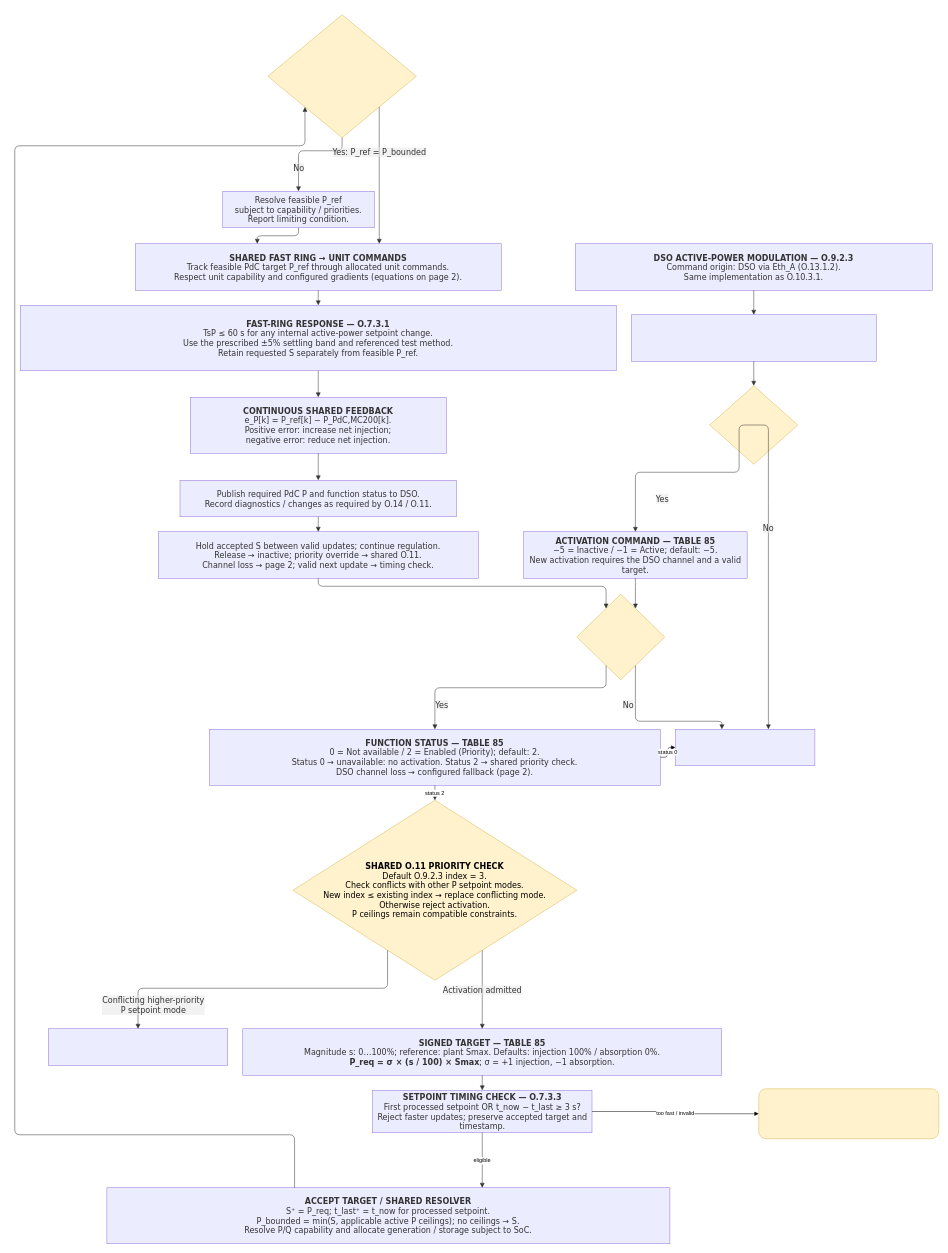
Some shapes in this 948 by 1253 pixel diagram are drawn without their labels. The shapes that lost their labels are listed below. From the top down, each one's centre as x and y in pixels, then its label:
point (341, 76): Can plant reach P_bounded?
point (753, 337): OPERATING STATUS — TABLE 85 −1 = Active / −5 = Inactive / +5 = Off Default: −5
point (753, 424): Status = −1 (Active)?
point (620, 637): Command = −1 (Active)?
point (745, 747): Function idle: no P target from this mode.
point (138, 1046): Activation refused: existing authorised mode stays in control.
point (848, 1113): REJECT UPDATE S⁺ = S; t_last⁺ = t_last. Continue prior authorised control.
